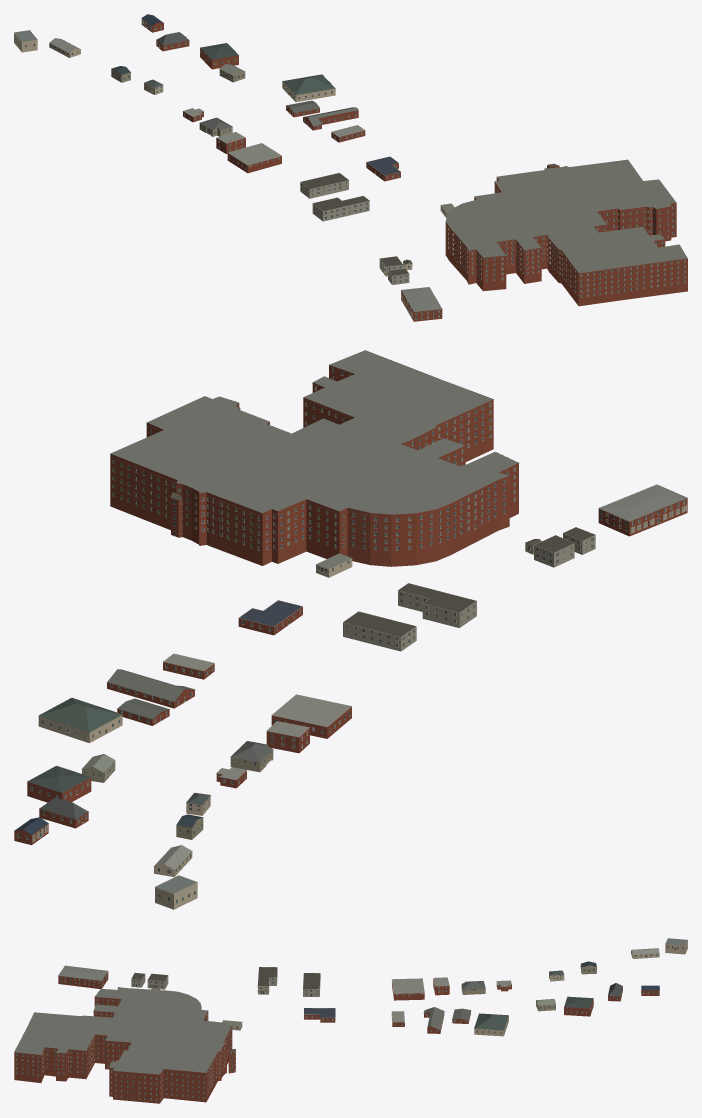
3 views of the same model, one above another, from view 1: azimuth 30°, elevation 25°; view 2: azimuth 150°, elevation 25°; view 3: azimuth 270°, elevation 25° (orthographic). The views are drawn at different scales.
Parts seen in each view (by area): view 1: -1_3_419637252_0, -1_3_1248151230_131, -1_3_590877181_4, -1_3_590877180_3; view 2: -1_3_419637252_0, -1_3_1248151230_131, -1_3_590877181_4, -1_3_590877180_3; view 3: -1_3_419637252_0, -1_3_590877181_4, -1_3_1248151230_131, -1_3_590877180_3.
Boxes of the visible parts, bbox=[...] form: -1_3_419637252_0: bbox=[14, 14, 687, 321]; -1_3_1248151230_131: bbox=[300, 180, 409, 284]; -1_3_590877181_4: bbox=[14, 33, 447, 270]; -1_3_590877180_3: bbox=[111, 24, 407, 309]; -1_3_419637252_0: bbox=[14, 350, 687, 903]; -1_3_1248151230_131: bbox=[343, 533, 595, 651]; -1_3_590877181_4: bbox=[38, 542, 533, 909]; -1_3_590877180_3: bbox=[39, 518, 659, 839]; -1_3_419637252_0: bbox=[14, 938, 687, 1103]; -1_3_590877181_4: bbox=[151, 940, 687, 1036]; -1_3_1248151230_131: bbox=[131, 972, 320, 996]; -1_3_590877180_3: bbox=[461, 965, 596, 1011].
Bounding box in the file's own units: 272 × 27.38 × 562.
